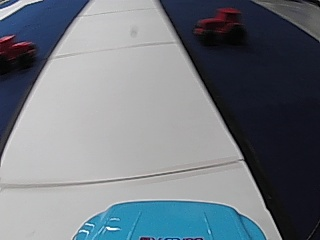tractor: (192, 6, 244, 46), (0, 32, 37, 73)
